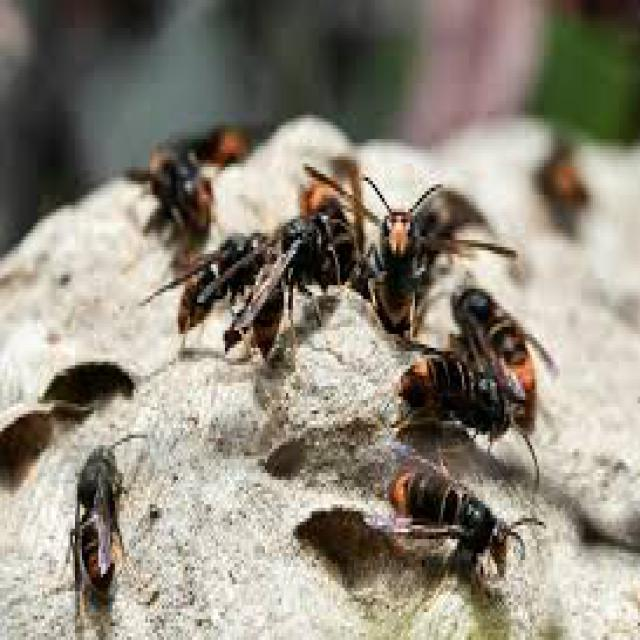Vespa Velutina: (379, 465, 551, 585), (67, 424, 151, 628)
